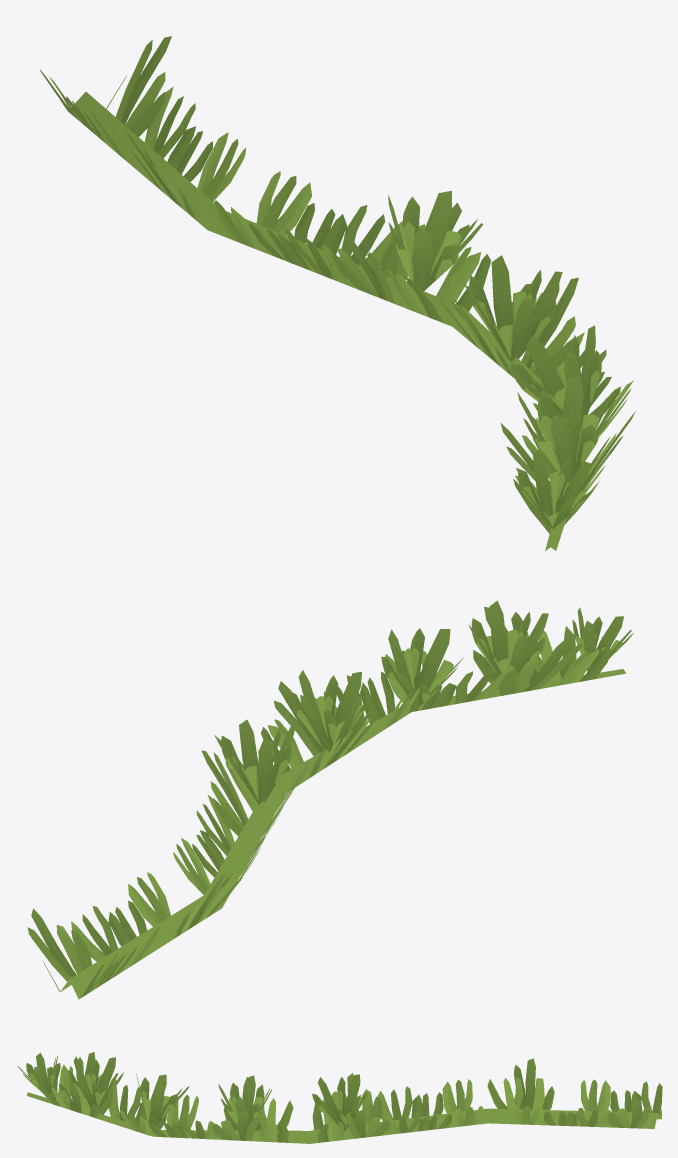
Rendered from SM_Env_Creeper_Vine_02.fbx.
The picture shows the model from 3 angles, top to bottom: view 1: azimuth 30°, elevation 25°; view 2: azimuth 150°, elevation 25°; view 3: azimuth 270°, elevation 25°; orthographic projection. The views are drawn at different scales.
Visible parts, largest first — view 1: SM_Env_Creeper_Vine_02; view 2: SM_Env_Creeper_Vine_02; view 3: SM_Env_Creeper_Vine_02.
Boxes of the visible parts, left/top/right/bottom form: SM_Env_Creeper_Vine_02: left=40, top=36, right=635, bottom=551; SM_Env_Creeper_Vine_02: left=27, top=600, right=633, bottom=999; SM_Env_Creeper_Vine_02: left=17, top=1052, right=662, bottom=1143.
Size of the model in its own units: 47.1 by 17.55 by 160.
